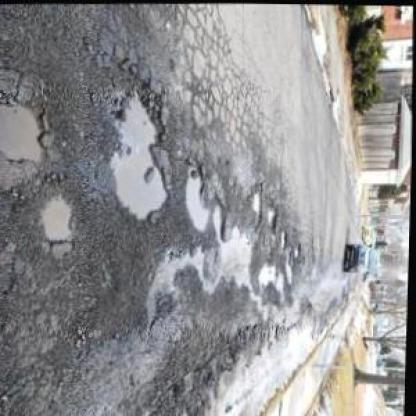pothole: (108, 88, 175, 224), (0, 100, 53, 170), (186, 164, 215, 233), (42, 194, 78, 244), (251, 186, 266, 222), (215, 204, 227, 240), (266, 203, 282, 228), (280, 228, 290, 250)
